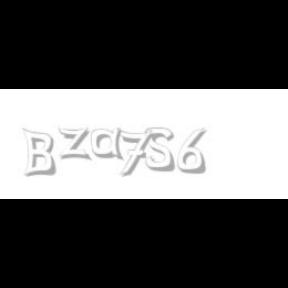6: (178, 128, 206, 176)
7: (116, 128, 154, 178)
B: (22, 128, 56, 178)
S: (146, 128, 176, 172)
a: (92, 128, 128, 160)
z: (57, 128, 93, 160)
